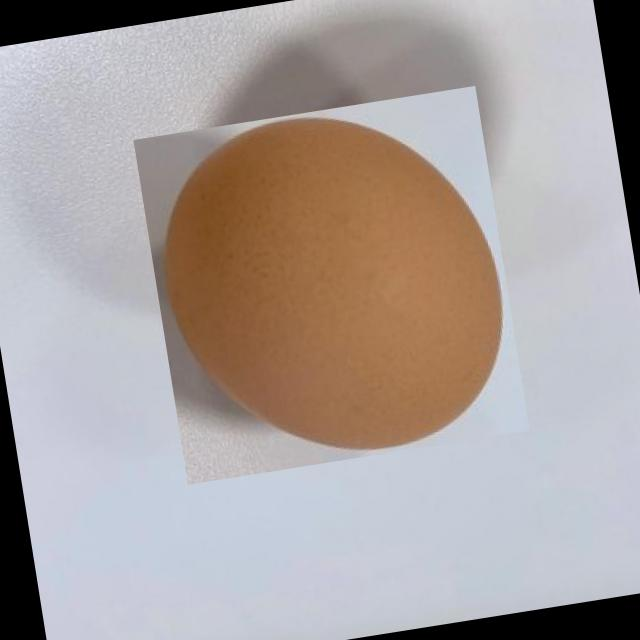eggs: (132, 86, 530, 484)
